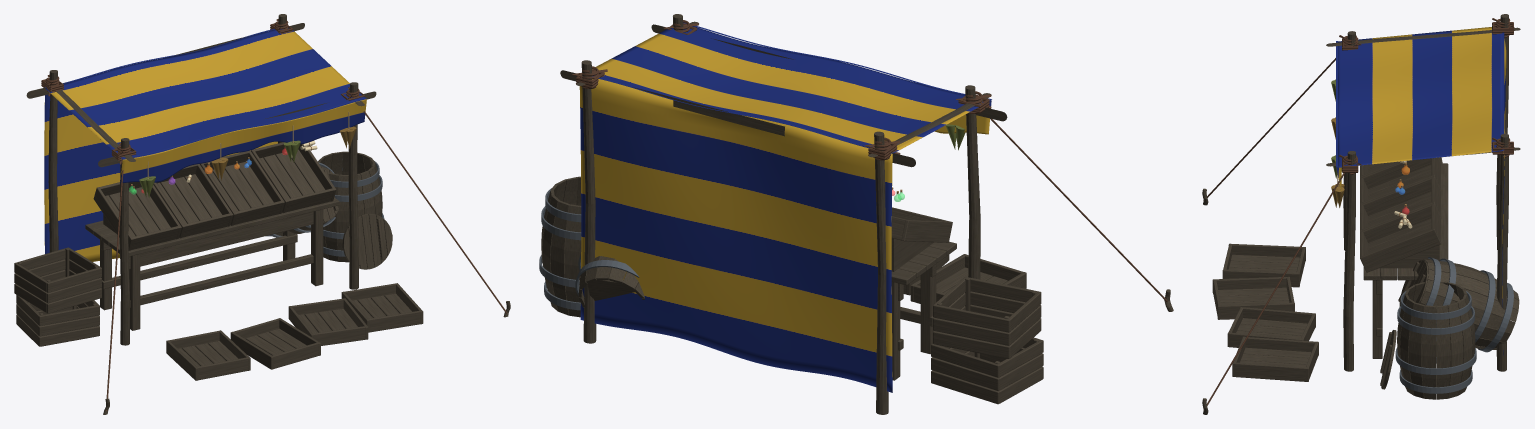
File: merchant_trade_stall.glb
3 views of the same model, side by side, from view 1: azimuth 30°, elevation 25°; view 2: azimuth 150°, elevation 25°; view 3: azimuth 270°, elevation 25° (orthographic). The views are drawn at different scales.
Parts seen in each view (by area): view 1: Canvas_continuous, Counter_apron, Lower_stretcher, Lower_stretcher.001, Roundwood_upright, Roundwood_upright.002, Roundwood_upright.001, Counter_top_plank, Counter_leg.002, Counter_leg, LooseTray_3_end, LooseTray_0_end (+41 smaller); view 2: Canvas_continuous, Roundwood_upright.001, Roundwood_upright.003, Roundwood_upright, Crossbar.001, OpenBarrel_stave.004, OpenBarrel_stave.003, Counter_leg, Crate_slatted_side.011, Crate_slatted_side.009, Crate_slatted_side.007, DisplayTray_0_side (+15 smaller); view 3: Canvas_continuous, Roundwood_upright.002, Roundwood_upright.003, DisplayTray_3_side.001, LooseTray_3_side.001, DisplayTray_2_side, OpenBarrel_stave, OpenBarrel_stave.015, DisplayTray_3_side, DisplayTray_1_side, OpenBarrel_stave.001, OpenBarrel_stave.014 (+45 smaller).
Boxes of the visible parts, <box> form: Canvas_continuous: <box>44,28,366,261</box>; Counter_apron: <box>129,211,313,269</box>; Lower_stretcher: <box>130,254,313,307</box>; Lower_stretcher.001: <box>101,234,297,289</box>; Roundwood_upright: <box>119,138,129,345</box>; Roundwood_upright.002: <box>348,82,358,289</box>; Roundwood_upright.001: <box>48,70,58,252</box>; Counter_top_plank: <box>118,197,339,256</box>; Counter_leg.002: <box>311,209,323,286</box>; Counter_leg: <box>129,254,140,330</box>; LooseTray_3_end: <box>366,310,422,332</box>; LooseTray_0_end: <box>194,357,247,380</box>; Canvas_continuous: <box>579,26,991,392</box>; Roundwood_upright.001: <box>874,131,888,414</box>; Roundwood_upright.003: <box>581,60,596,343</box>; Roundwood_upright: <box>965,85,980,279</box>; Crossbar.001: <box>560,70,915,167</box>; OpenBarrel_stave.004: <box>564,204,581,317</box>; OpenBarrel_stave.003: <box>550,201,570,315</box>; Counter_leg: <box>920,269,936,354</box>; Crate_slatted_side.011: <box>933,304,1009,332</box>; Crate_slatted_side.009: <box>933,318,1009,345</box>; Crate_slatted_side.007: <box>933,331,1009,358</box>; DisplayTray_0_side: <box>901,220,952,242</box>; Canvas_continuous: <box>1336,27,1506,355</box>; Roundwood_upright.002: <box>1343,151,1355,371</box>; Roundwood_upright.003: <box>1496,133,1508,371</box>; DisplayTray_3_side.001: <box>1360,228,1441,272</box>; LooseTray_3_side.001: <box>1232,362,1308,381</box>; DisplayTray_2_side: <box>1360,176,1441,215</box>; OpenBarrel_stave: <box>1436,305,1450,399</box>; OpenBarrel_stave.015: <box>1421,305,1435,399</box>; DisplayTray_3_side: <box>1360,203,1441,242</box>; DisplayTray_1_side: <box>1360,158,1441,188</box>; OpenBarrel_stave.001: <box>1447,303,1463,398</box>; OpenBarrel_stave.014: <box>1408,303,1424,398</box>.
Bounding box in the file's own units: 5.34 × 2.75 × 3.37.
170 materials, 153 textured.
